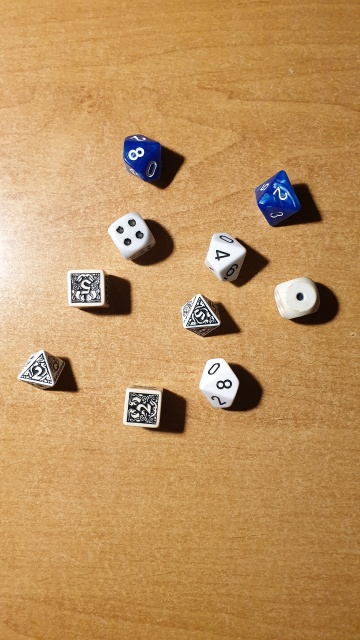d10-2: (256, 167, 298, 217)
d10-4: (202, 227, 250, 288)
d10-8: (117, 132, 167, 182), (199, 359, 241, 413)
d6-1: (279, 279, 317, 317)
d6-4: (106, 209, 155, 258)
d6p-2: (121, 388, 164, 430)
d6p-5: (67, 269, 105, 308)
d8p-2: (19, 347, 67, 396)
d8p-5: (177, 291, 223, 338)
